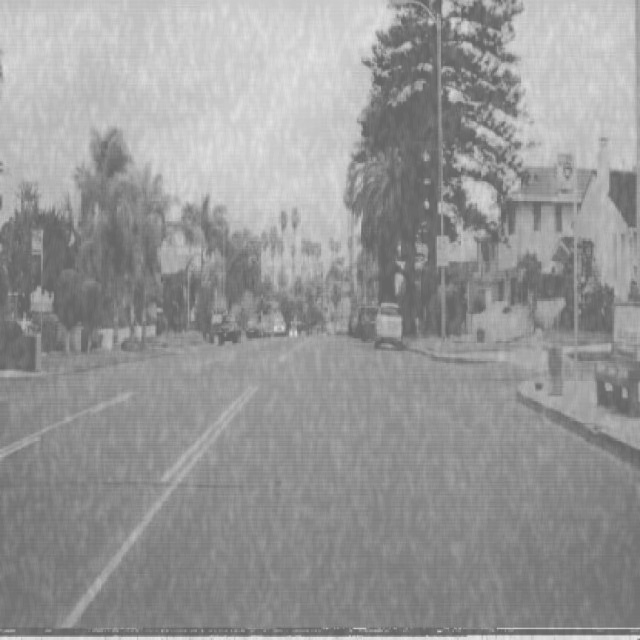zoneAhead25: (436, 234, 450, 267)
